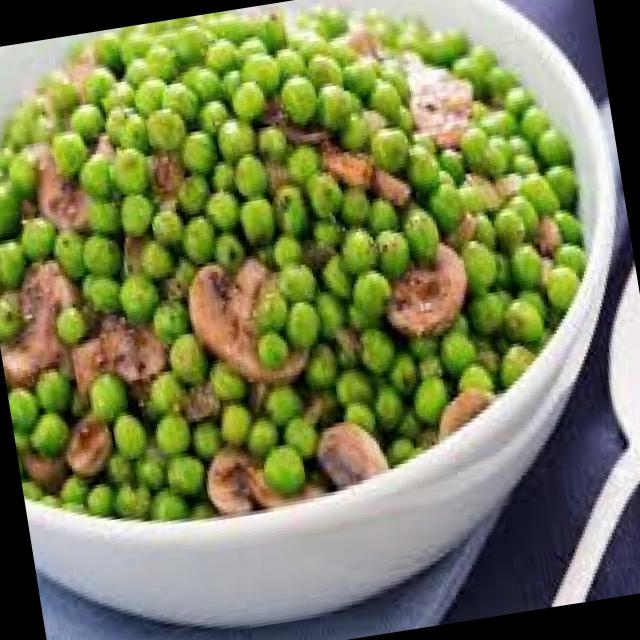peas: (0, 13, 290, 251), (388, 0, 590, 194), (274, 248, 440, 454), (443, 130, 561, 352), (77, 374, 260, 508), (267, 0, 396, 143), (18, 238, 186, 342), (152, 166, 316, 264), (300, 158, 413, 276), (406, 304, 512, 402), (1, 344, 74, 443), (0, 252, 29, 337)
